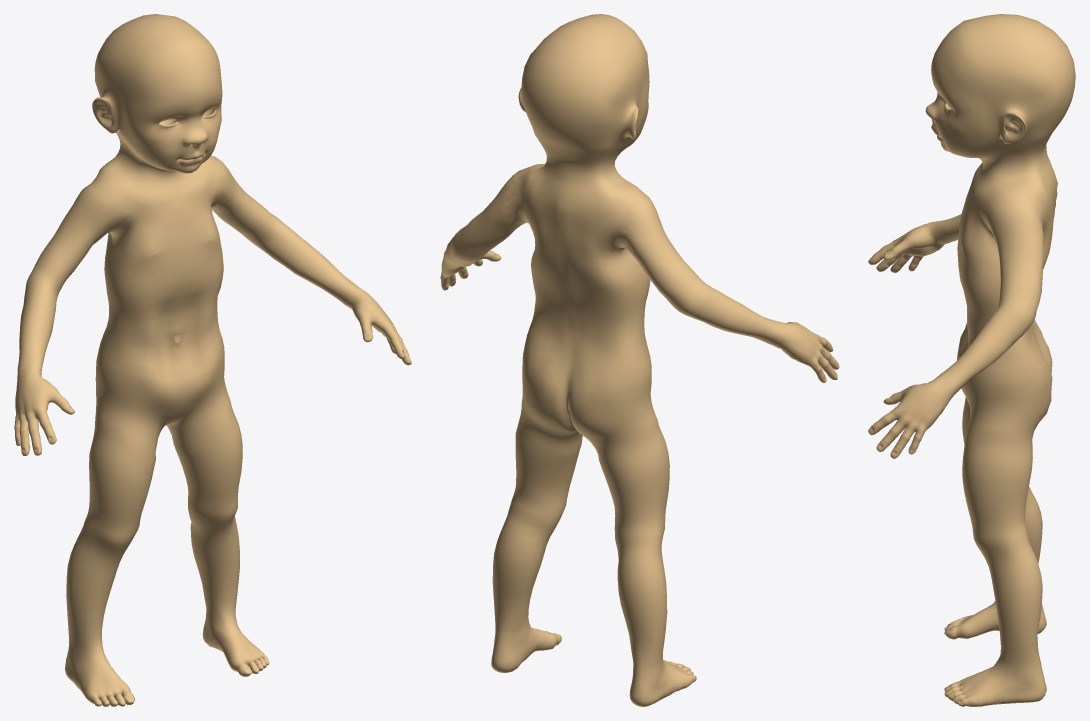
3 views of the same model, side by side, from view 1: azimuth 30°, elevation 25°; view 2: azimuth 150°, elevation 25°; view 3: azimuth 270°, elevation 25° (orthographic).
Visible parts, largest first — view 1: Human; view 2: Human; view 3: Human.
Boxes of the visible parts, x1,y1,x2,y2 form: Human: (14,14,411,706); Human: (440,14,839,706); Human: (868,14,1075,706).
Bounding box in the file's own units: 0.4109 × 0.66 × 0.1917.
